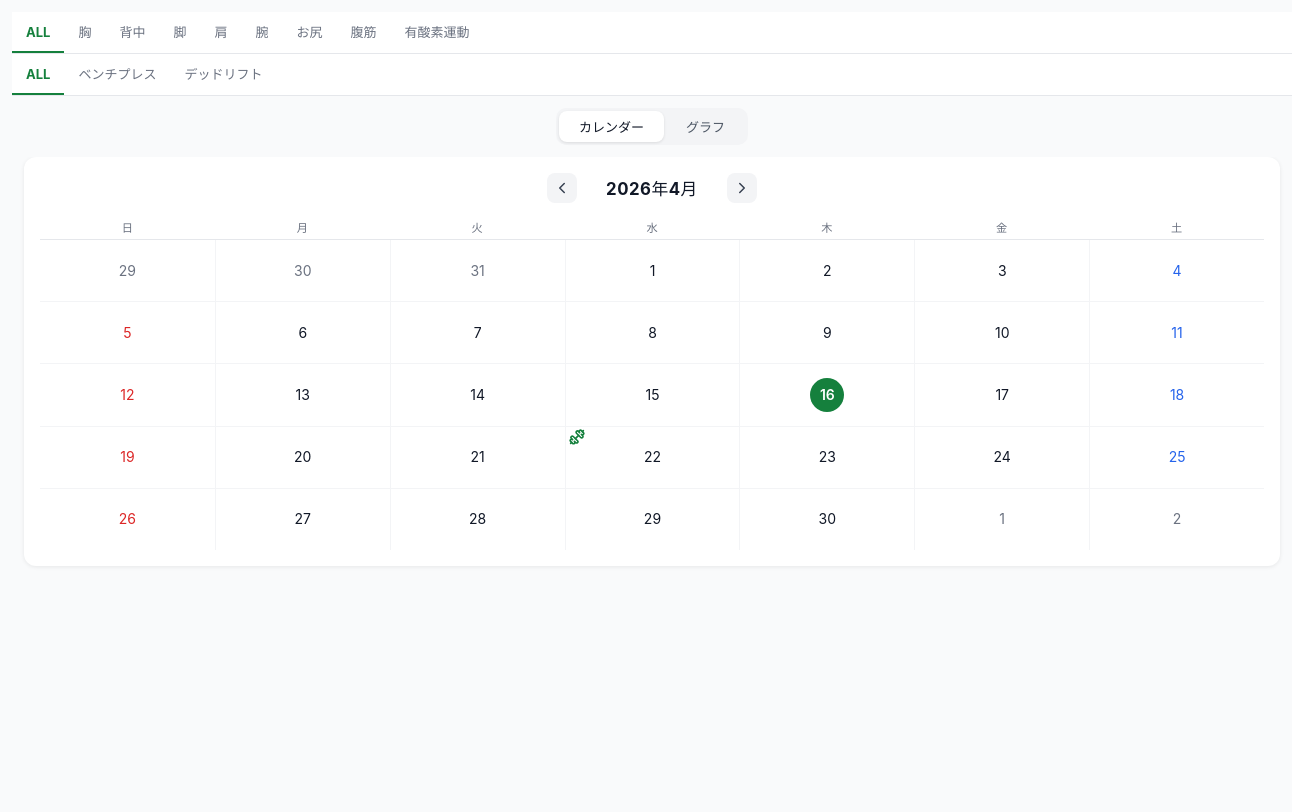
it: HistoryPage - ビュー切り替え › 記録がない部位を選択してグラフビューにすると「記録がありません」が表示される
What coordinates should you click on to do the following:
click the button "腹筋"
I would click on:
 (364, 32)
Its box is [336,12,390,53].
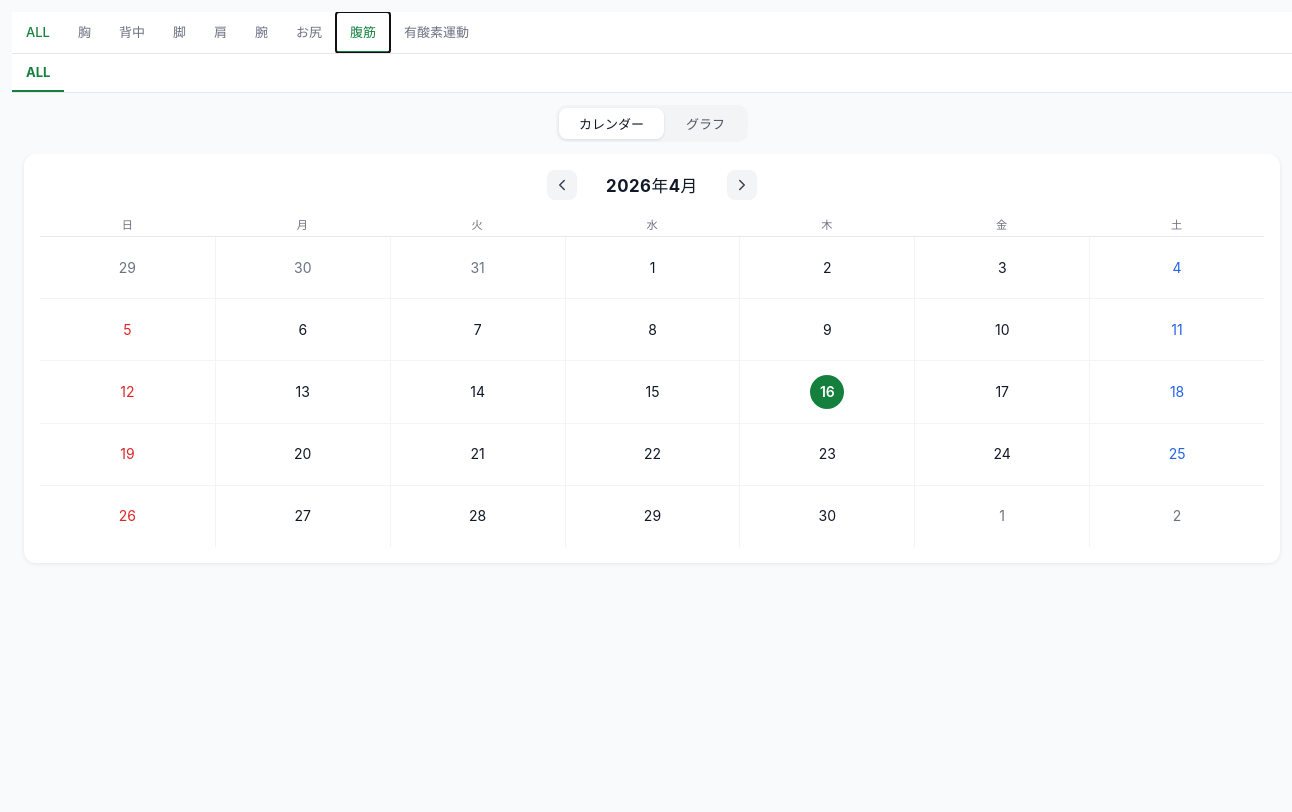
What coordinates should you click on to do the following:
click the button "グラフ"
I would click on:
 (706, 124)
Its box is [666,108,745,139].
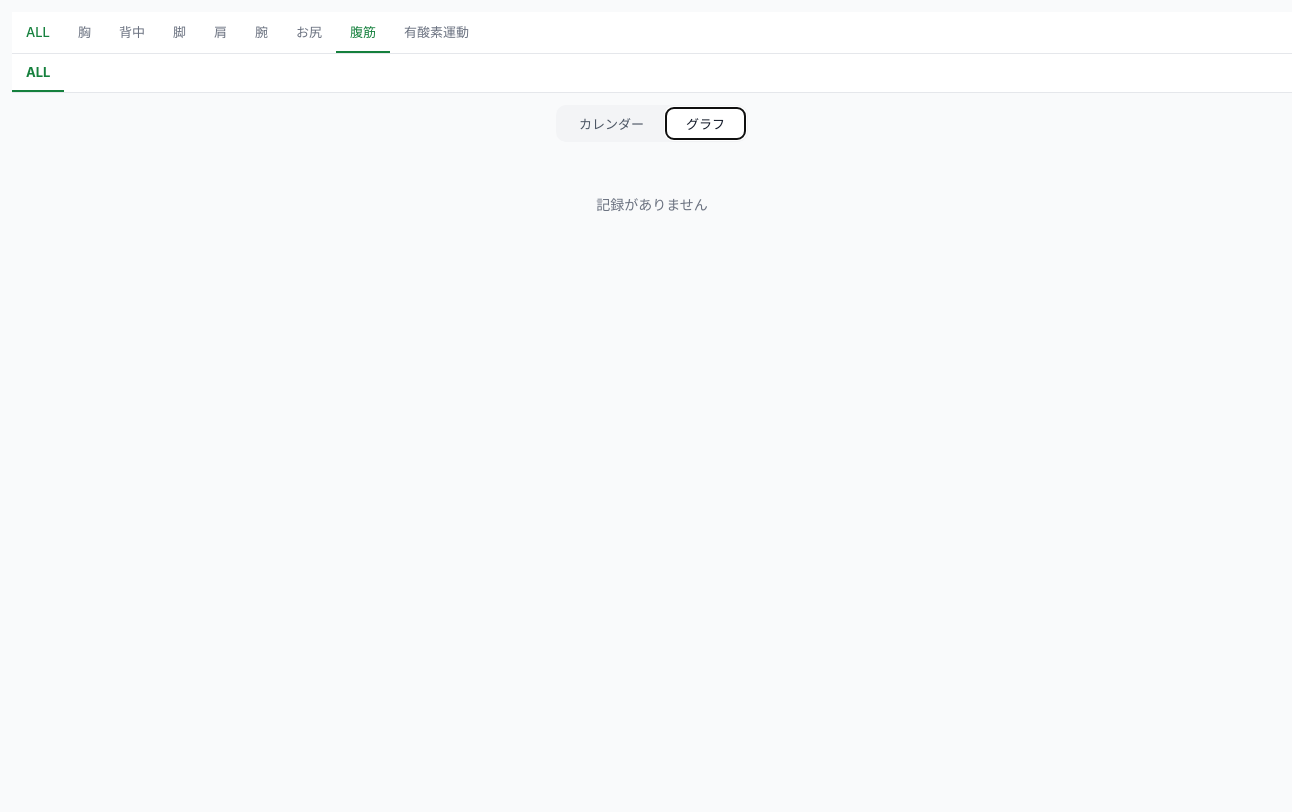
Expected: the text "記録がありません" is shown, [596,196,708,213]
